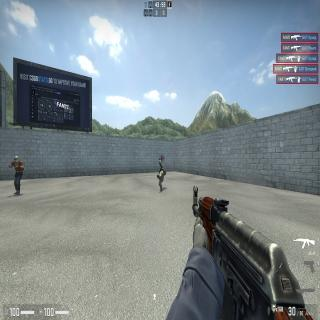T-Body: (12, 154, 22, 194)
T-Head: (14, 155, 18, 163)
